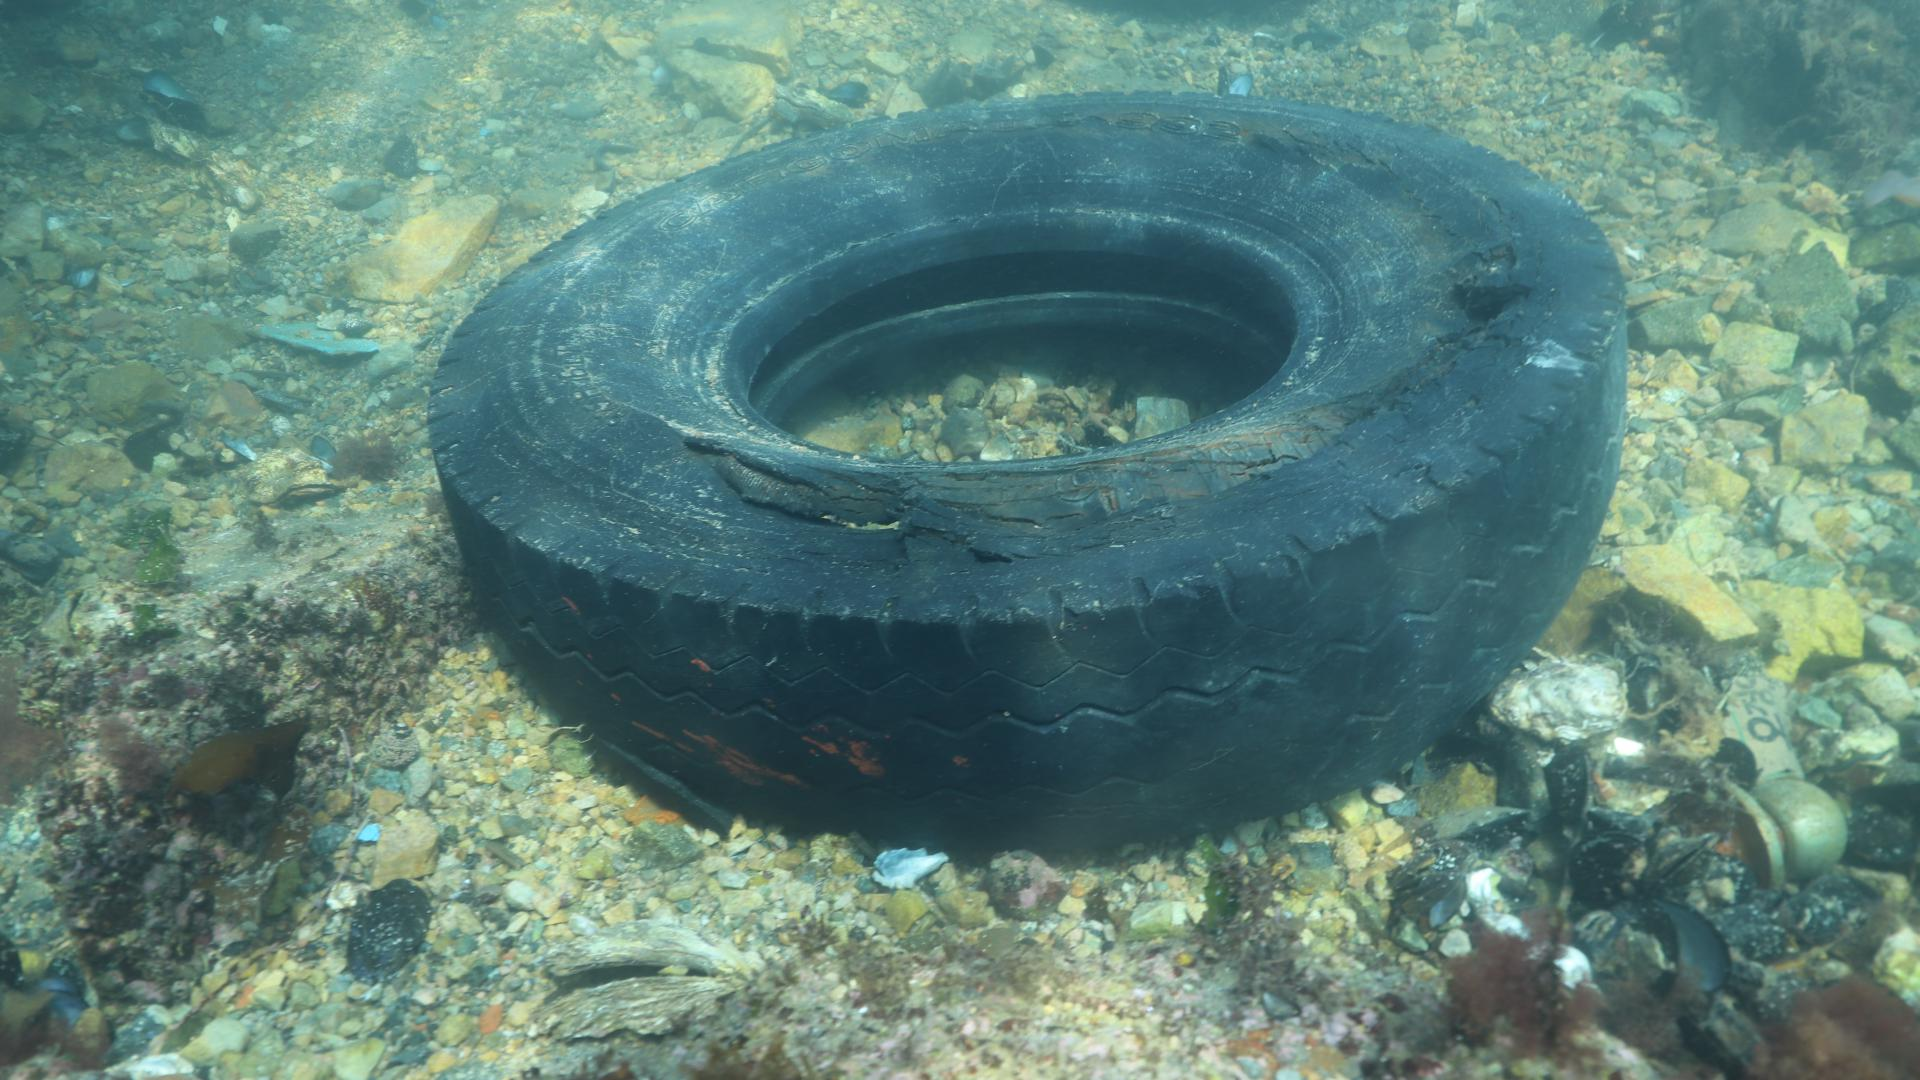tire: (429, 87, 1627, 860)
